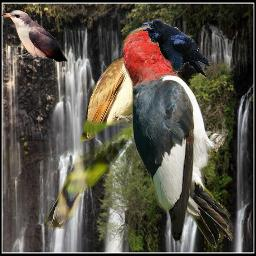Crow: (142, 19, 210, 78)
Cuckoo: (42, 20, 182, 233), (1, 10, 68, 62)
Woodpecker: (123, 27, 236, 248)
